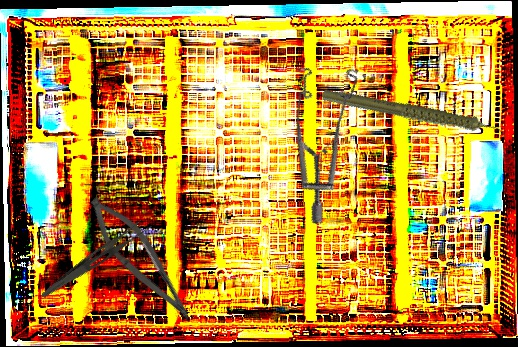Dressing Forceps: (40, 212, 153, 310)
Handpiece: (319, 52, 510, 179)
Micro Scissor: (76, 189, 208, 329)
Speculum: (253, 44, 409, 228)
